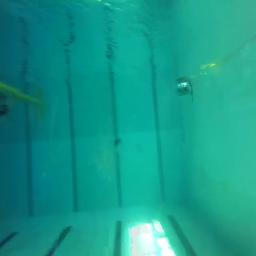Full: (114, 138, 122, 144)
front: (176, 80, 192, 95)
